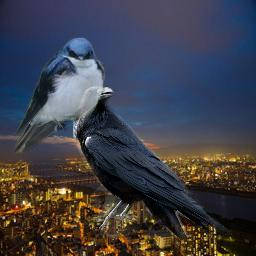Crow: (73, 85, 233, 238)
Swallow: (11, 36, 106, 154)
